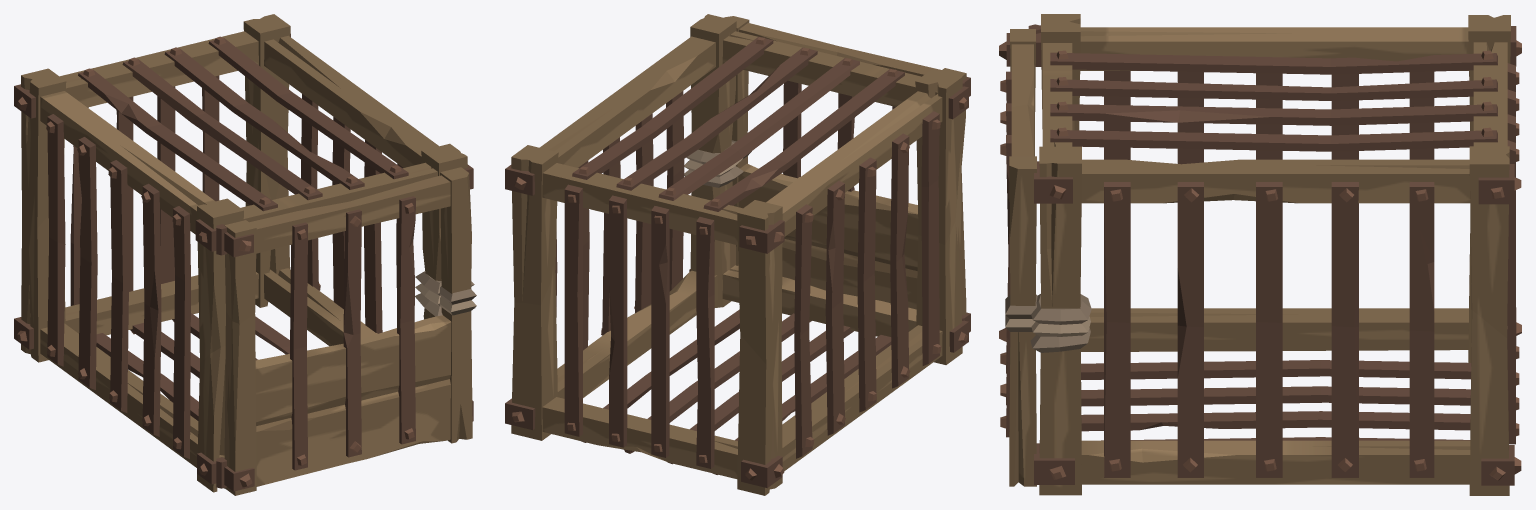
The model's file is SM_Prop_Cage_03.fbx.
3 views of the same model, side by side, from view 1: azimuth 30°, elevation 25°; view 2: azimuth 150°, elevation 25°; view 3: azimuth 270°, elevation 25° (orthographic). The views are drawn at different scales.
Parts seen in each view (by area): view 1: SM_Prop_Cage_03, SM_Prop_Cage_03_Door; view 2: SM_Prop_Cage_03, SM_Prop_Cage_03_Door; view 3: SM_Prop_Cage_03, SM_Prop_Cage_03_Door.
Part boxes in pixels (x1,y1,x2,y2): SM_Prop_Cage_03: [14, 14, 475, 492]; SM_Prop_Cage_03_Door: [224, 167, 476, 495]; SM_Prop_Cage_03: [505, 14, 968, 495]; SM_Prop_Cage_03_Door: [724, 16, 970, 332]; SM_Prop_Cage_03: [1028, 14, 1521, 495]; SM_Prop_Cage_03_Door: [999, 29, 1037, 486].
Bounding box in the file's own units: 82.33 × 79.88 × 114.
